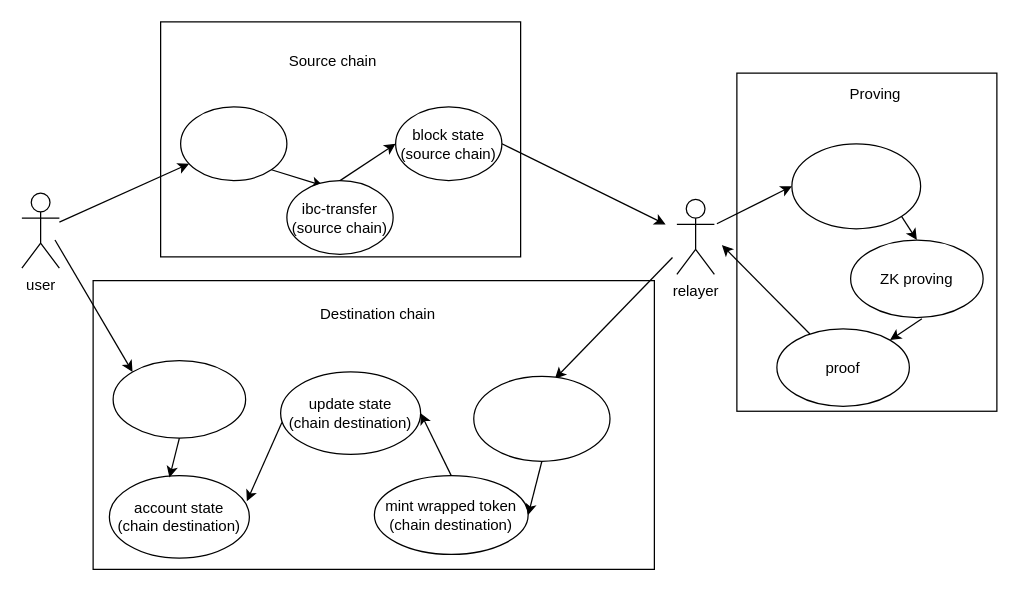
The diagram is 1019 pixels wide and 591 high, and some of its shapes have lost their labels. Here are the shapes that lost their labels. From the top down, the centre of each, then its label:
(233,143): transfer (source chain)
(856,185): input preprocessing
(179,398): query balance (chain destination)
(541,418): contract verify (chain destination)
